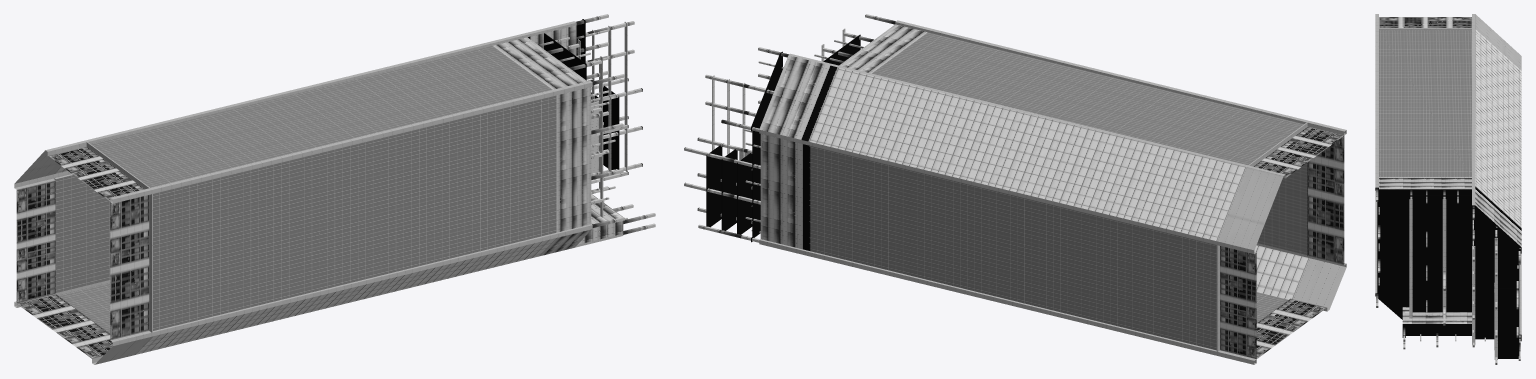
File: S_BD_Skyscraper_14.dae
3 renders of one model, left to right at view 1: azimuth 30°, elevation 25°; view 2: azimuth 150°, elevation 25°; view 3: azimuth 270°, elevation 25°, orthographic. The views are drawn at different scales.
Visible parts, largest first — view 1: S_BD_Skyscraper_14.004, S_BD_Skyscraper_14.002, S_BD_Skyscraper_14.003, S_BD_Skyscraper_14.001, S_BD_Skyscraper_14.005; view 2: S_BD_Skyscraper_14.004, S_BD_Skyscraper_14.001, S_BD_Skyscraper_14.002, S_BD_Skyscraper_14.003, S_BD_Skyscraper_14.005; view 3: S_BD_Skyscraper_14.005, S_BD_Skyscraper_14.004, S_BD_Skyscraper_14.001, S_BD_Skyscraper_14.003, S_BD_Skyscraper_14.002.
Part boxes in pixels (bbox=[...]): S_BD_Skyscraper_14.004: bbox=[56, 46, 556, 333]; S_BD_Skyscraper_14.002: bbox=[14, 21, 623, 364]; S_BD_Skyscraper_14.003: bbox=[493, 14, 655, 255]; S_BD_Skyscraper_14.001: bbox=[55, 166, 557, 354]; S_BD_Skyscraper_14.005: bbox=[544, 19, 619, 170]; S_BD_Skyscraper_14.004: bbox=[810, 32, 1307, 350]; S_BD_Skyscraper_14.001: bbox=[809, 67, 1308, 299]; S_BD_Skyscraper_14.002: bbox=[759, 20, 1346, 364]; S_BD_Skyscraper_14.003: bbox=[684, 14, 927, 250]; S_BD_Skyscraper_14.005: bbox=[706, 34, 860, 242]; S_BD_Skyscraper_14.005: bbox=[1375, 187, 1521, 358]; S_BD_Skyscraper_14.004: bbox=[1379, 30, 1471, 176]; S_BD_Skyscraper_14.001: bbox=[1475, 29, 1521, 227]; S_BD_Skyscraper_14.003: bbox=[1376, 177, 1521, 364]; S_BD_Skyscraper_14.002: bbox=[1375, 14, 1521, 334].
Bounding box in the file's own units: 286 × 79.93 × 80.03.
